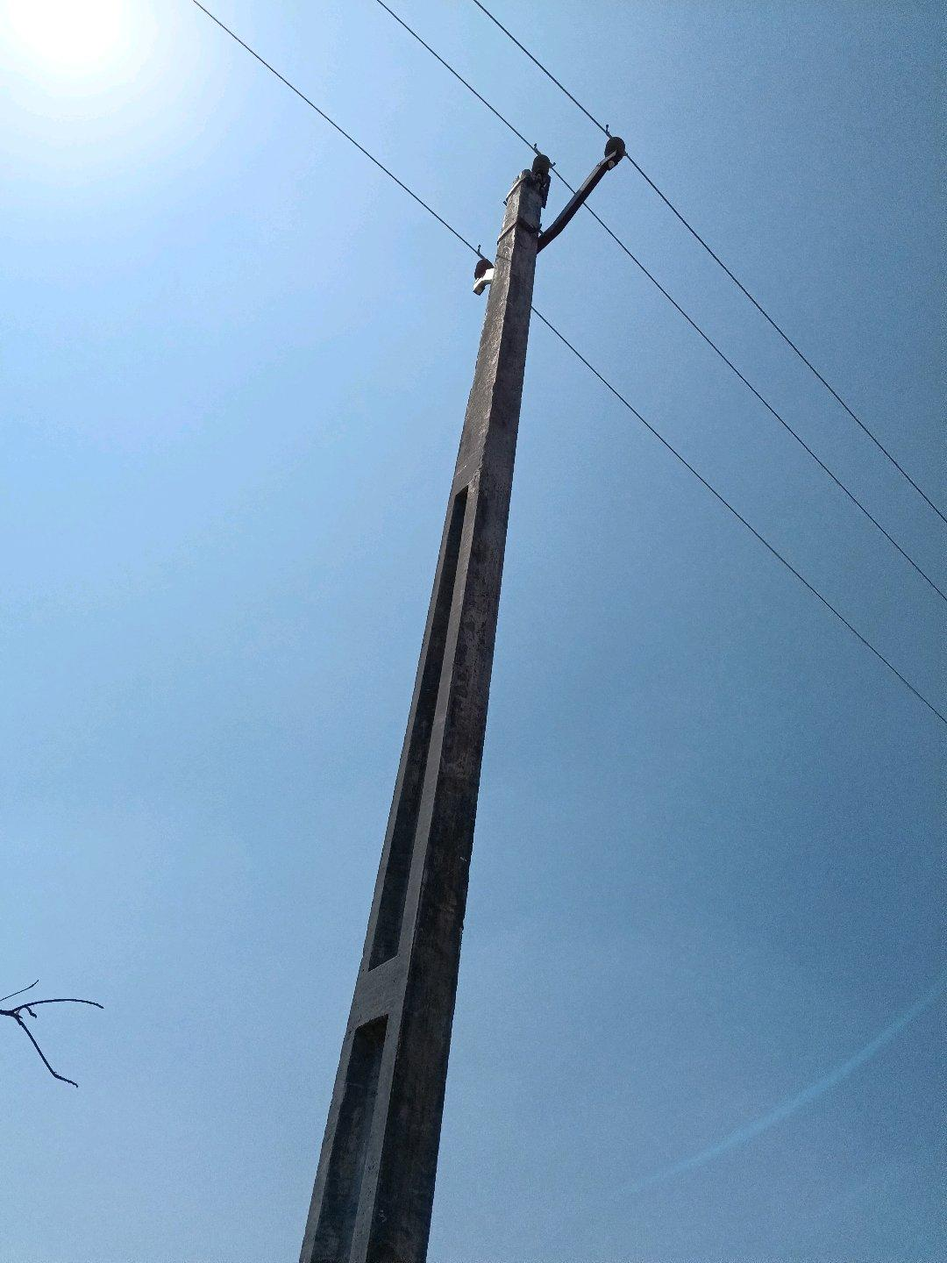{"0" "insulator", "1" "pole", "2" "crossarm", "3" "conductor", "4" "street_: (300, 139, 623, 1262), (478, 273, 481, 275)
